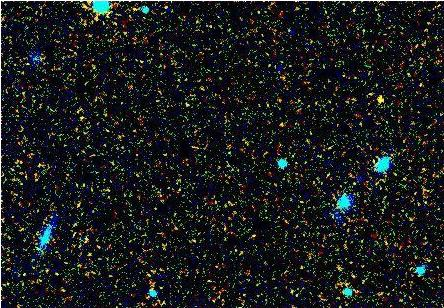star: (364, 83, 394, 113)
